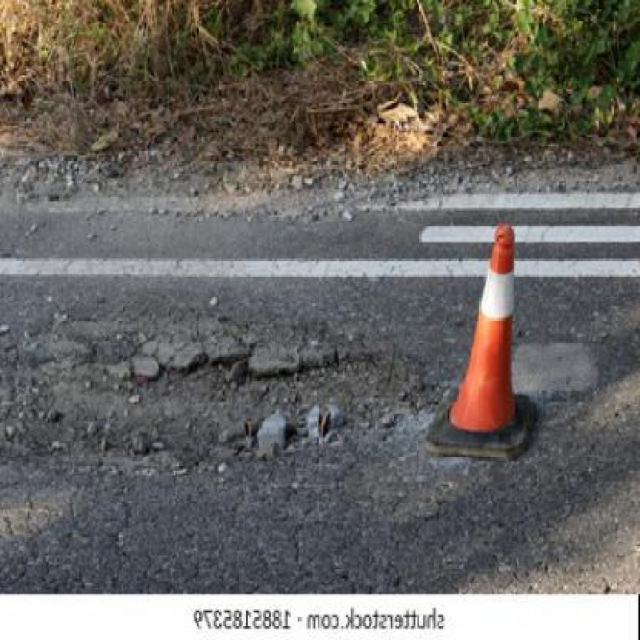pothole: (1, 345, 427, 467)
